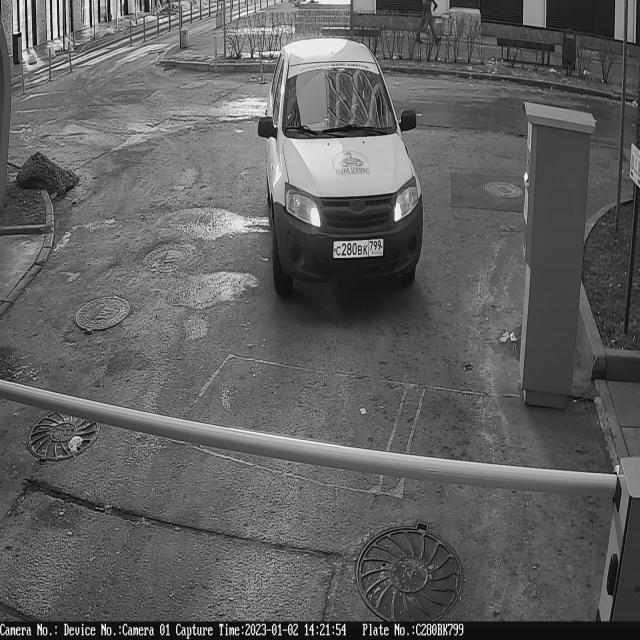car-plate-numbers: (332, 234, 387, 265)
